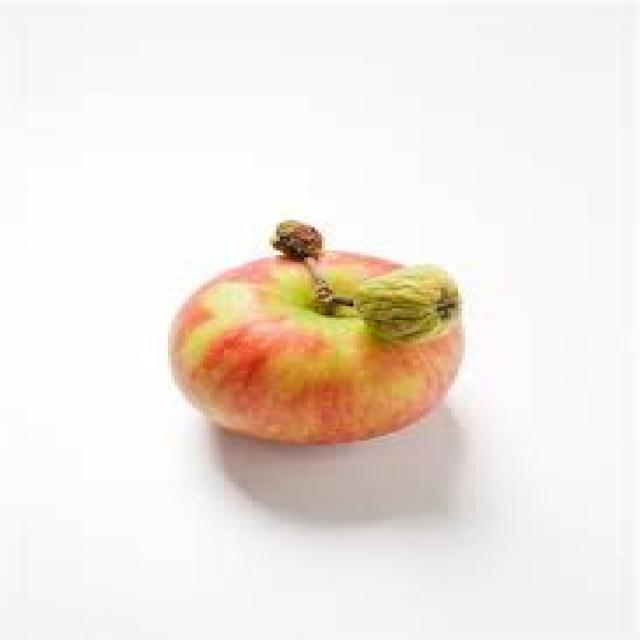food_waste: (171, 250, 458, 443)
